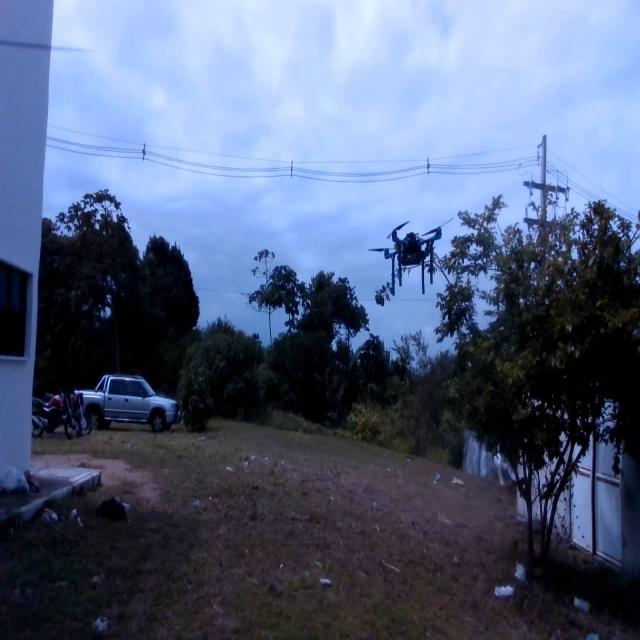-uav-: (362, 209, 460, 299)
